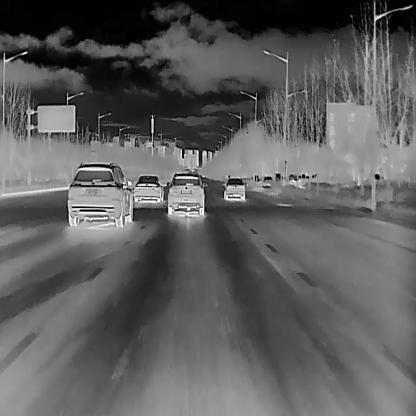car: (66, 162, 133, 228), (166, 171, 207, 214), (133, 173, 165, 202), (222, 177, 245, 200), (261, 175, 272, 187), (287, 173, 300, 181)
